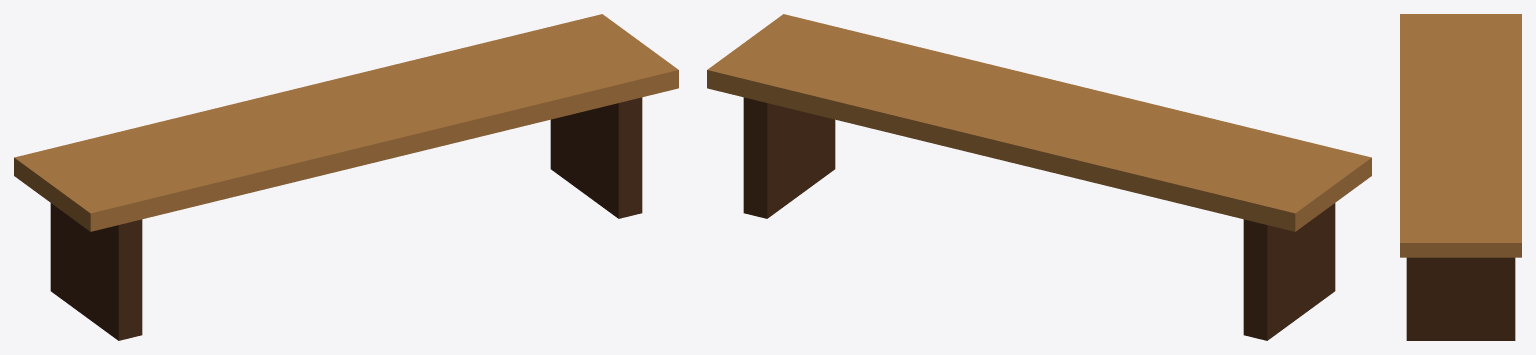
File: station_bench.glb
The picture shows the model from 3 angles, left to right: view 1: azimuth 30°, elevation 25°; view 2: azimuth 150°, elevation 25°; view 3: azimuth 270°, elevation 25°; orthographic projection. The views are drawn at different scales.
Visible parts, largest first — view 1: seat_bench_wood, legs_bench_dark; view 2: seat_bench_wood, legs_bench_dark; view 3: seat_bench_wood, legs_bench_dark.
Part boxes in pixels (x1=…): seat_bench_wood: x1=14, y1=14, x2=678, y2=231; legs_bench_dark: x1=50, y1=97, x2=642, y2=340; seat_bench_wood: x1=707, y1=14, x2=1371, y2=231; legs_bench_dark: x1=743, y1=97, x2=1335, y2=340; seat_bench_wood: x1=1400, y1=14, x2=1521, y2=257; legs_bench_dark: x1=1406, y1=257, x2=1515, y2=340.
Bounding box in the file's own units: 2 × 0.45 × 0.45.
